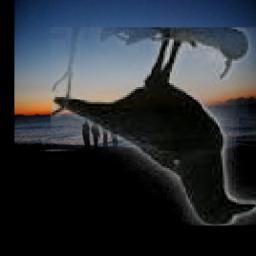Crow: (52, 27, 256, 226)
